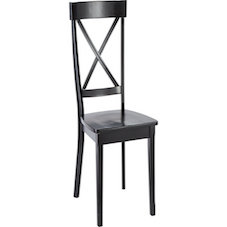chair: (39, 1, 176, 223)
